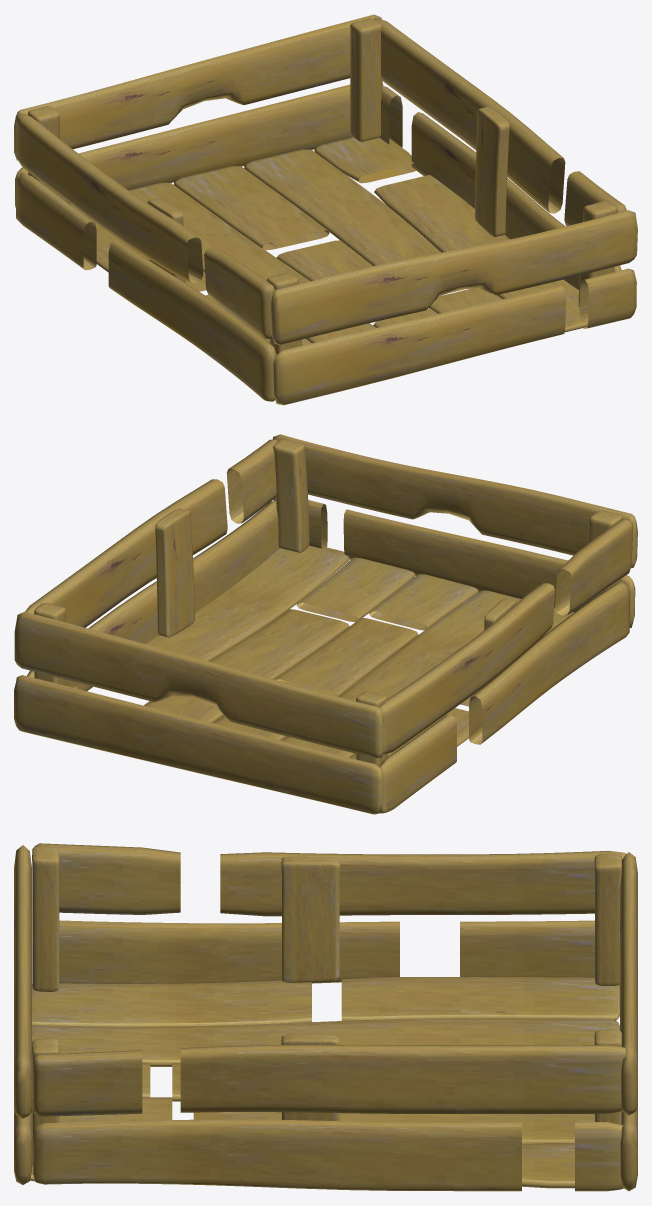
Rendered from CrateBeaten.fbx.
3 renders of one model, top to bottom at view 1: azimuth 30°, elevation 25°; view 2: azimuth 150°, elevation 25°; view 3: azimuth 270°, elevation 25°, orthographic. The views are drawn at different scales.
Visible parts, largest first — view 1: Crate2; view 2: Crate2; view 3: Crate2.
Part boxes in pixels (<box>): Crate2: <box>14,14,637,405</box>; Crate2: <box>14,434,637,814</box>; Crate2: <box>14,843,637,1191</box>.
Bounding box in the file's own units: 3.02 × 0.9502 × 3.7.
1 material, 1 textured.
